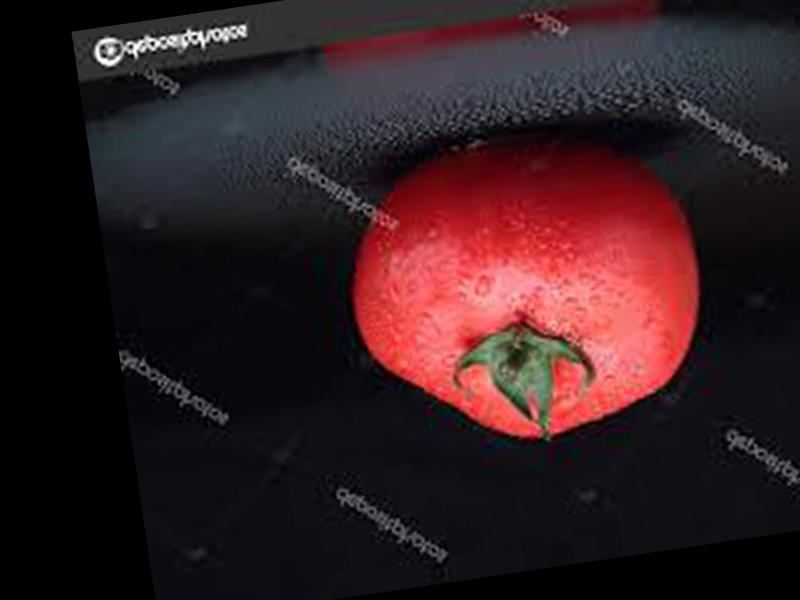Tomato: (332, 115, 721, 465)
